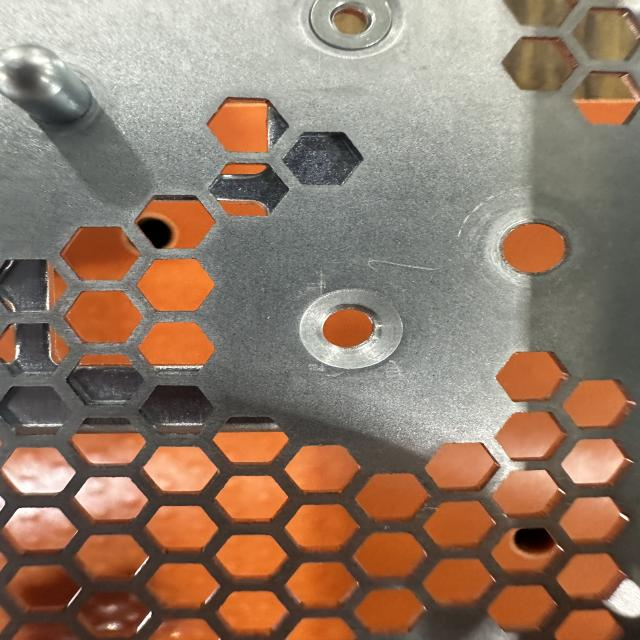Missing screw: (292, 282, 410, 376)
